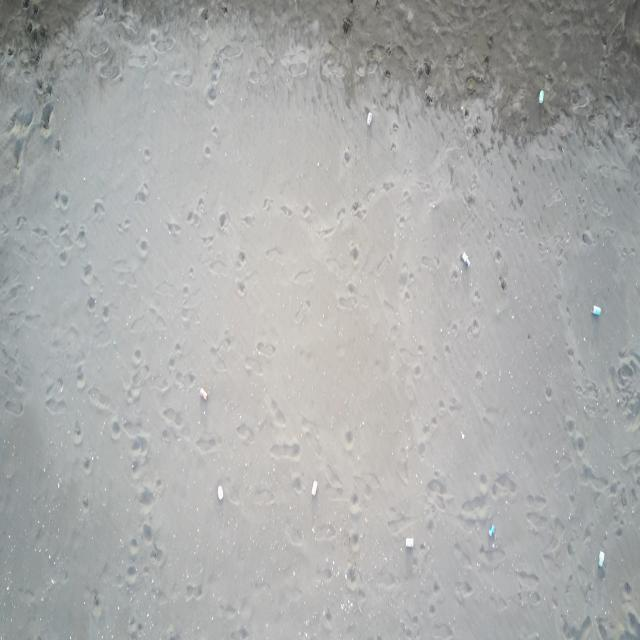Garbage: (460, 252, 470, 267), (597, 551, 604, 567), (216, 484, 223, 500), (537, 88, 544, 103), (200, 387, 207, 400), (592, 304, 600, 315), (404, 536, 412, 547), (488, 524, 495, 536), (367, 111, 372, 125), (312, 480, 316, 495), (460, 431, 464, 439)
